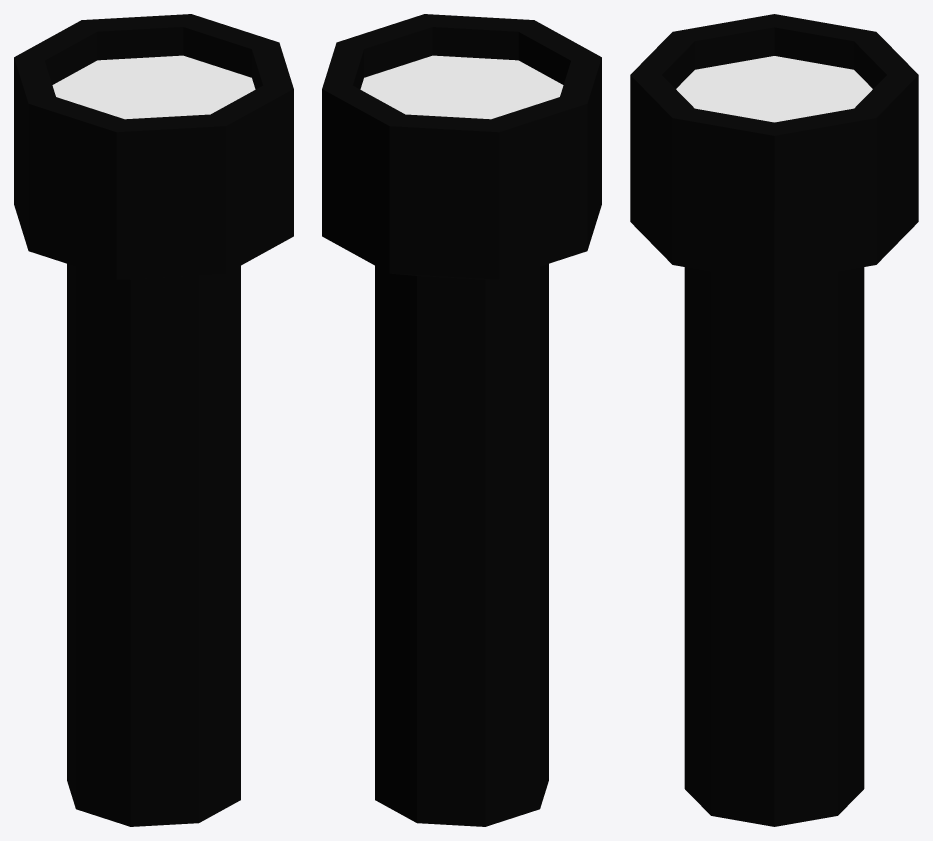
Rendered from Flashlight.fbx.
The picture shows the model from 3 angles, left to right: view 1: azimuth 30°, elevation 25°; view 2: azimuth 150°, elevation 25°; view 3: azimuth 270°, elevation 25°; orthographic projection.
Visible parts, largest first — view 1: Circle.002; view 2: Circle.002; view 3: Circle.002.
Boxes of the visible parts, x1=… form: Circle.002: x1=14, y1=14, x2=293, y2=826; Circle.002: x1=322, y1=14, x2=601, y2=826; Circle.002: x1=630, y1=14, x2=918, y2=826.
Bounding box in the file's own units: 143 × 390 × 143.
